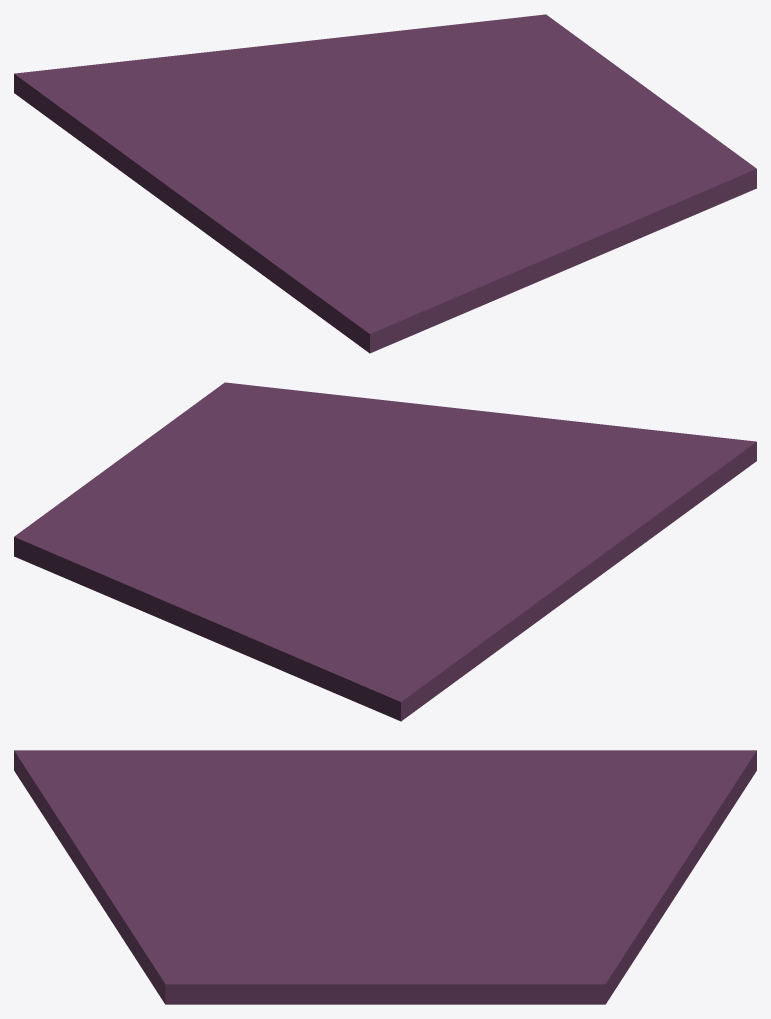
File: Platform_Form_B.fbx
3 renders of one model, top to bottom at view 1: azimuth 30°, elevation 25°; view 2: azimuth 150°, elevation 25°; view 3: azimuth 270°, elevation 25°, orthographic. The views are drawn at different scales.
Visible parts, largest first — view 1: Platform_Form_B; view 2: Platform_Form_B; view 3: Platform_Form_B.
Part boxes in pixels (x1,y1,x2,y2): Platform_Form_B: (14, 14, 756, 353); Platform_Form_B: (14, 382, 756, 721); Platform_Form_B: (14, 750, 756, 1004).
Size of the model in its own units: 17.8 by 0.7291 by 23.88.
